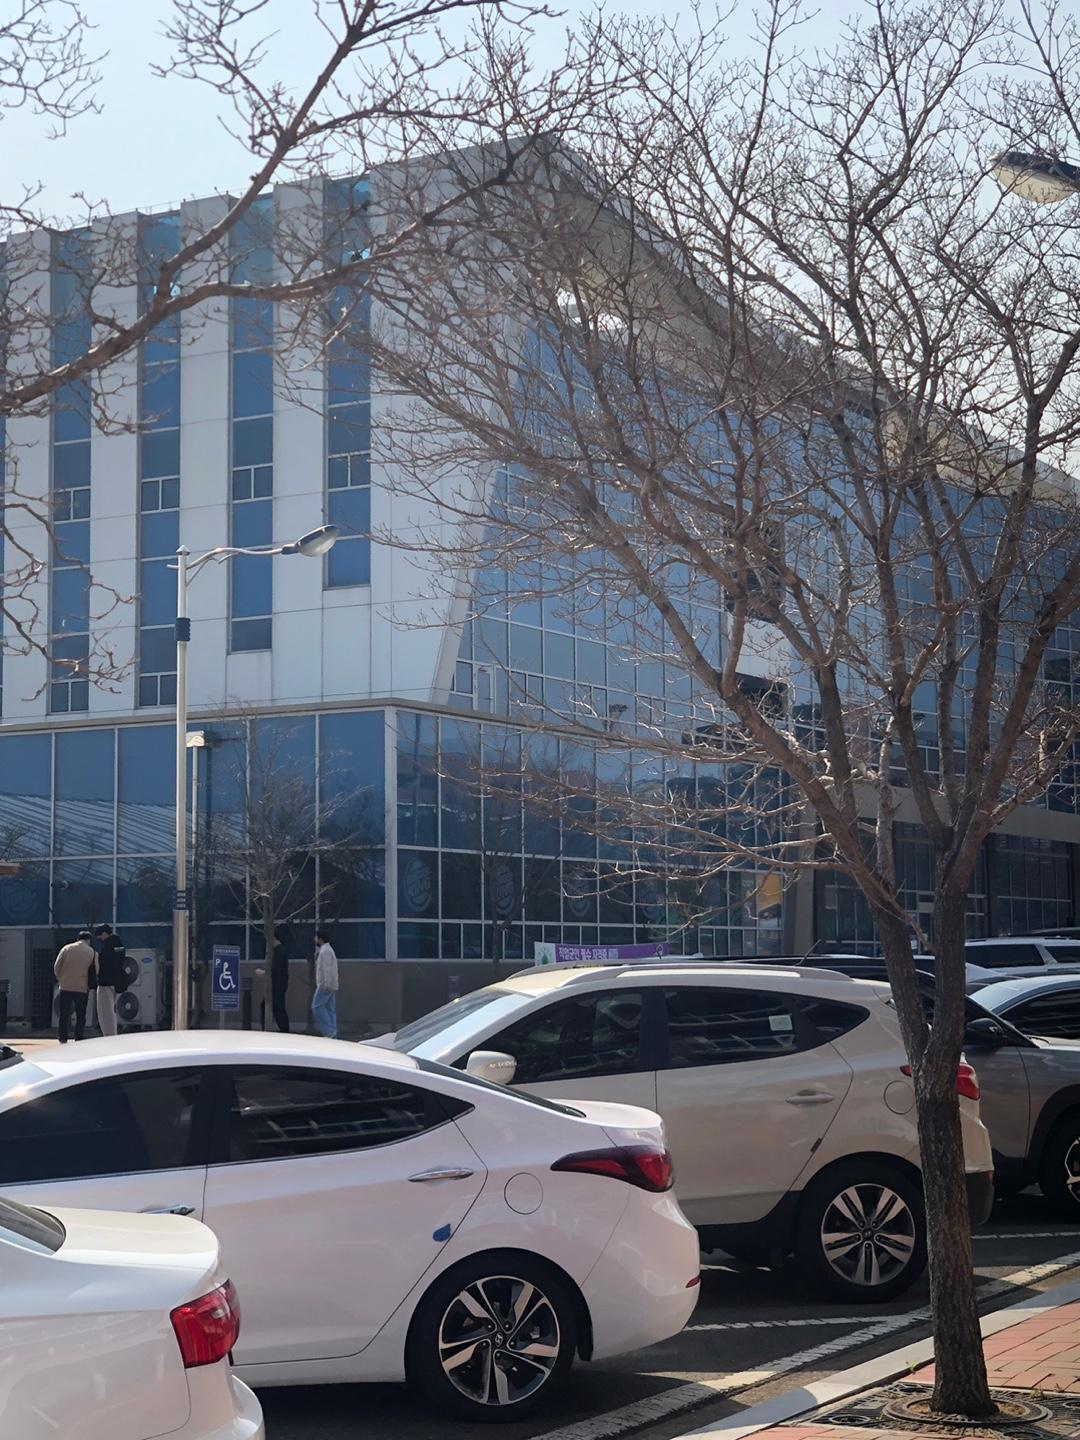building: (0, 98, 1080, 1058)
